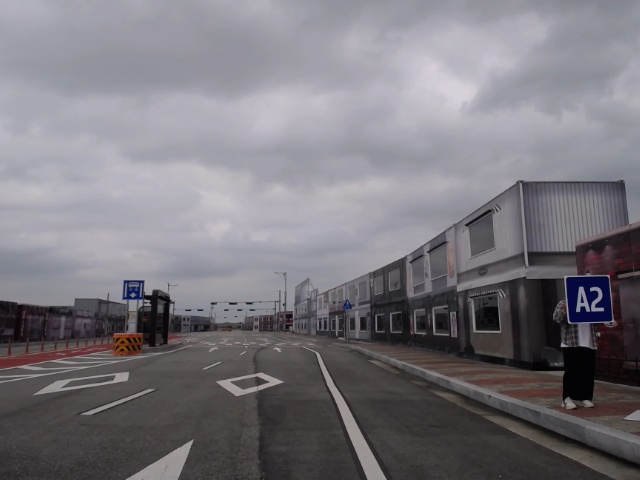delivery_a2: (565, 274, 614, 324)
